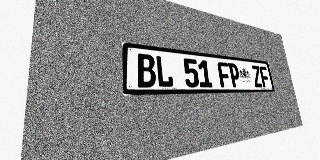1: (197, 60, 213, 87)
5: (183, 58, 200, 87)
B: (136, 53, 157, 88)
F: (217, 62, 231, 87), (259, 66, 270, 87)
L: (155, 55, 174, 87)
P: (228, 63, 241, 87)
Z: (251, 65, 263, 87)
